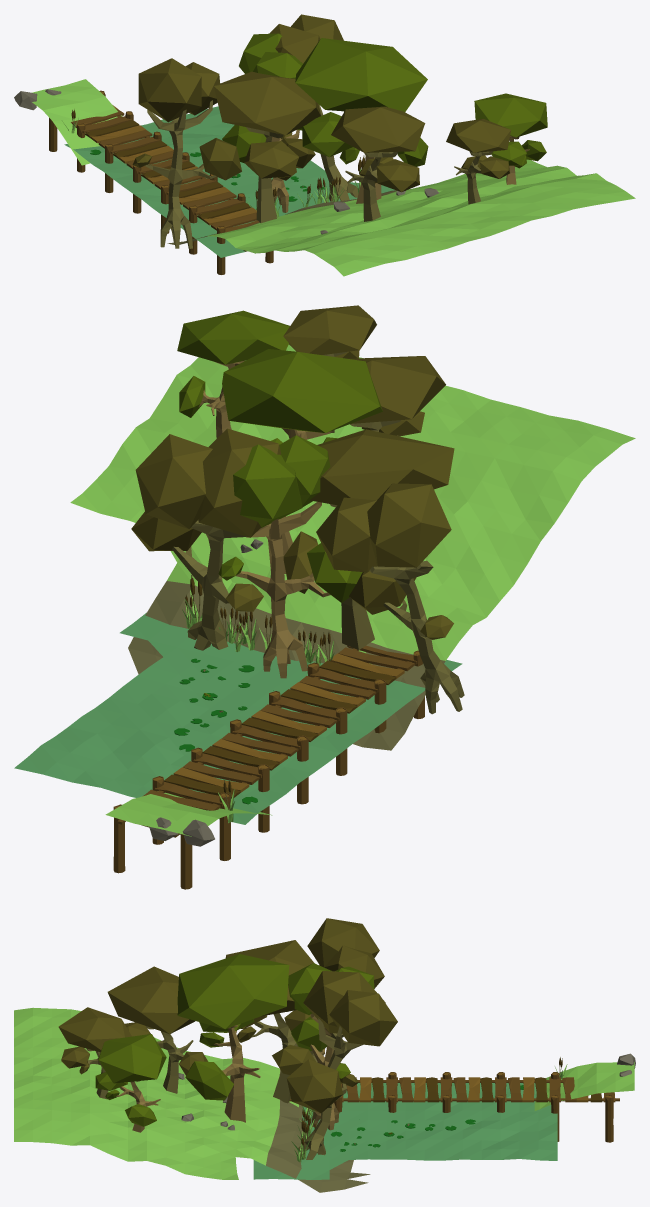
The model's file is Escenario_04.fbx.
The picture shows the model from 3 angles, top to bottom: view 1: azimuth 30°, elevation 25°; view 2: azimuth 150°, elevation 25°; view 3: azimuth 270°, elevation 25°; orthographic projection. The views are drawn at different scales.
Visible parts, largest first — view 1: Escenario4Completo; view 2: Escenario4Completo; view 3: Escenario4Completo.
Boxes of the visible parts, x1,y1,x2,y2 form: Escenario4Completo: [14, 14, 635, 276]; Escenario4Completo: [14, 305, 635, 889]; Escenario4Completo: [14, 918, 635, 1192].
Bounding box in the file's own units: 6319 × 3922 × 10657.
